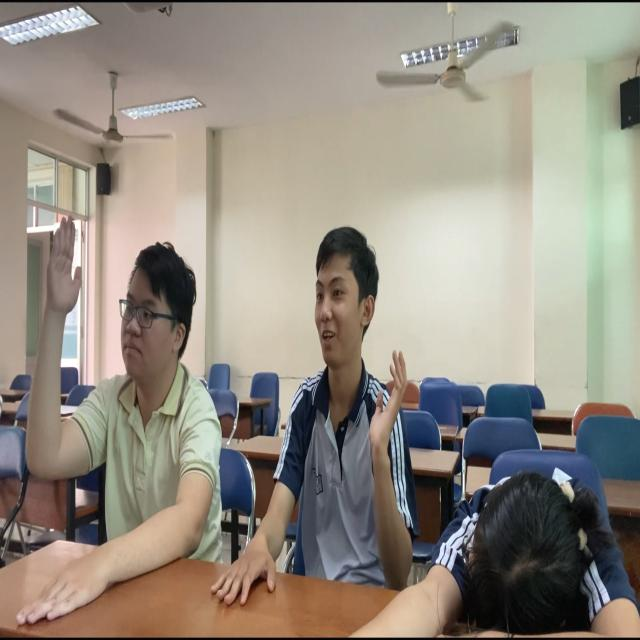raise_hand: (20, 178, 238, 561)
sleep: (422, 462, 640, 634)
